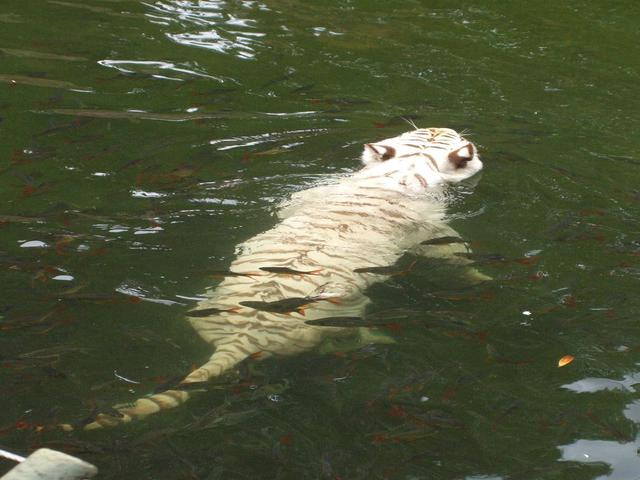tiger: (101, 106, 538, 434)
